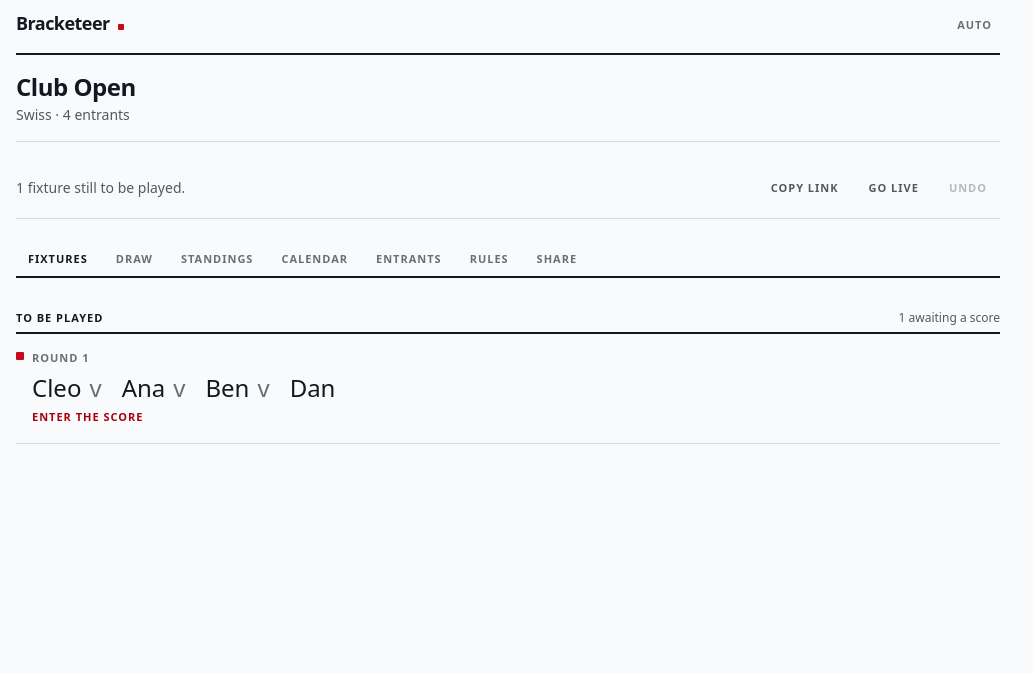
Test: recording a result, in every shape the rules can take › takes times, and records a competitor who did not finish
The image size is (1033, 673).
Click the button "Enter the score" at (57, 387), box [16,372,1000,426]
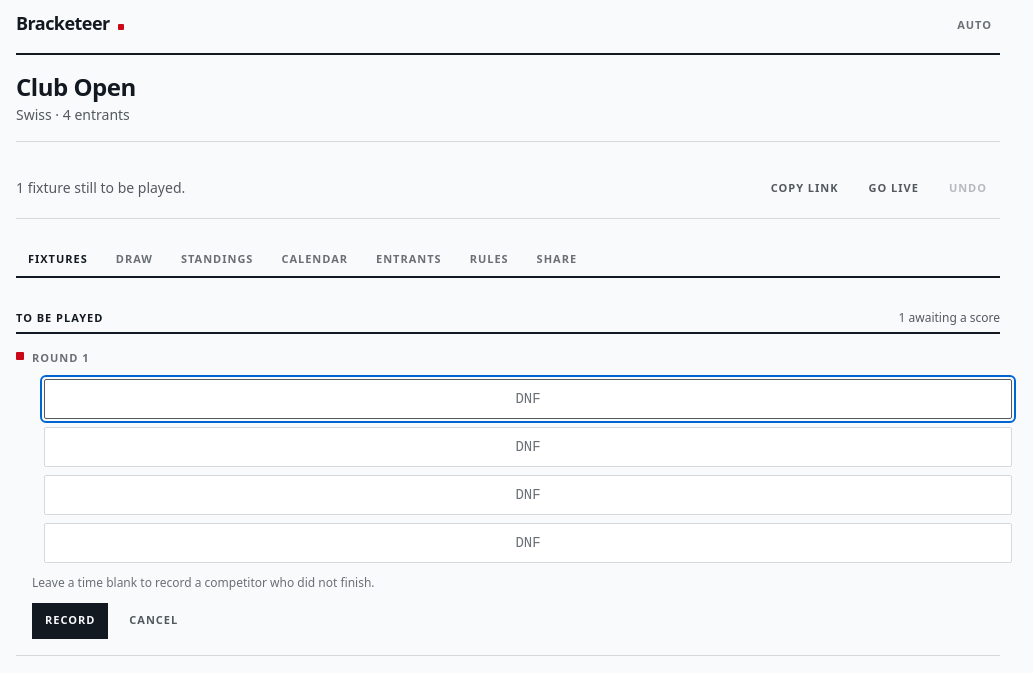
Type "12.4" into the field named "Time for Ana" at (528, 446), box [44,426,1012,466]
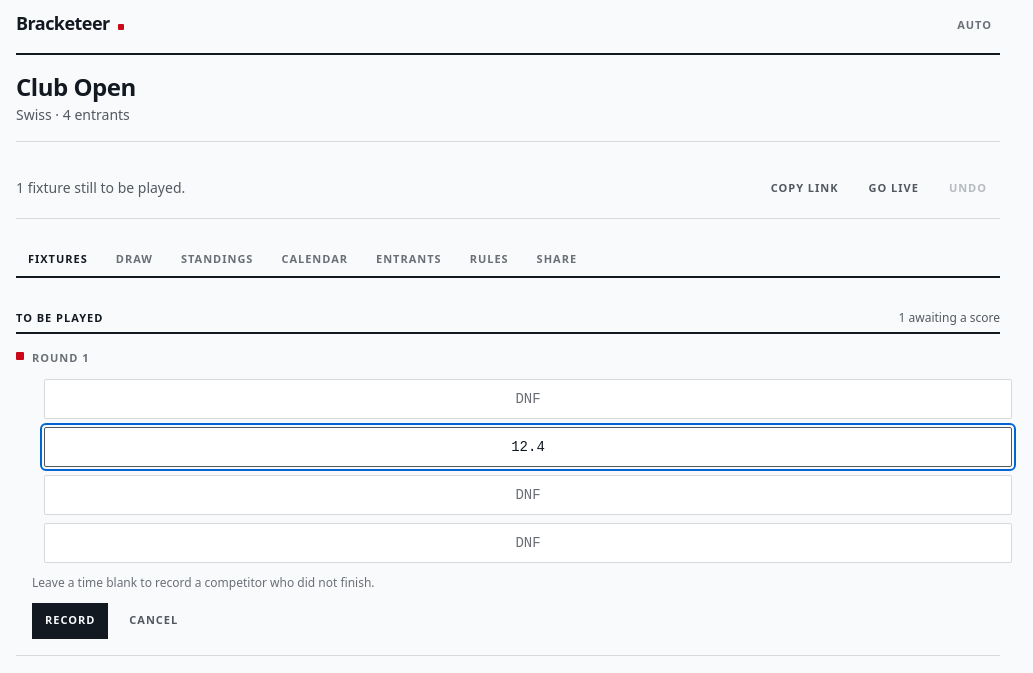
Type "11.9" into the field named "Time for Ben" at (528, 494), box [44,474,1012,514]
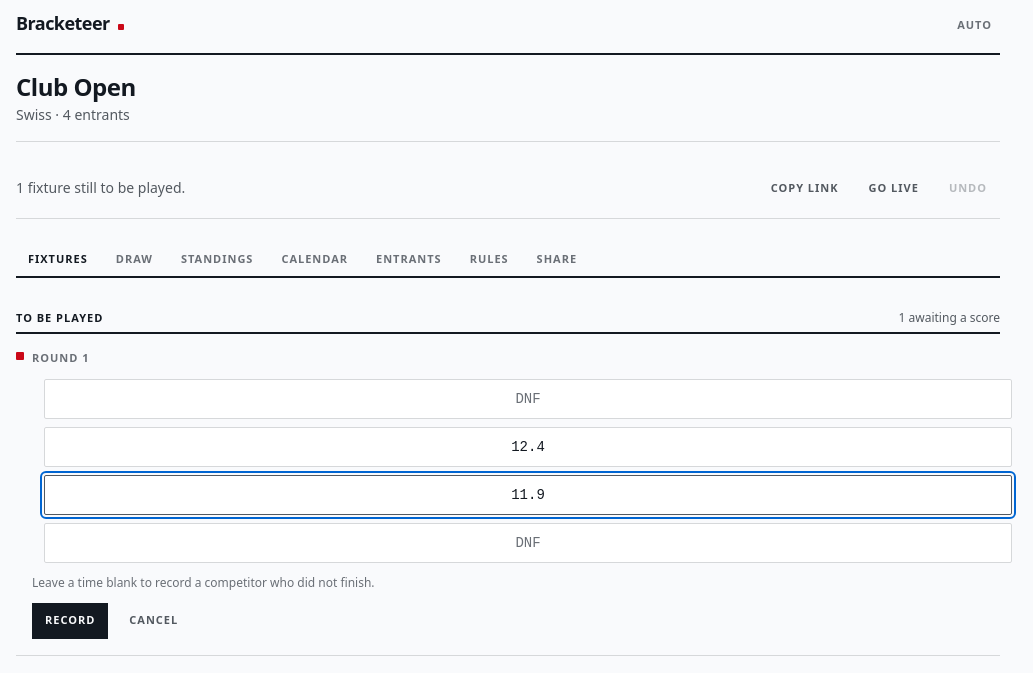
// Cleo and Dan are left blank: they did not finish.
Click the button "Record" at (70, 620), box [32,602,108,638]
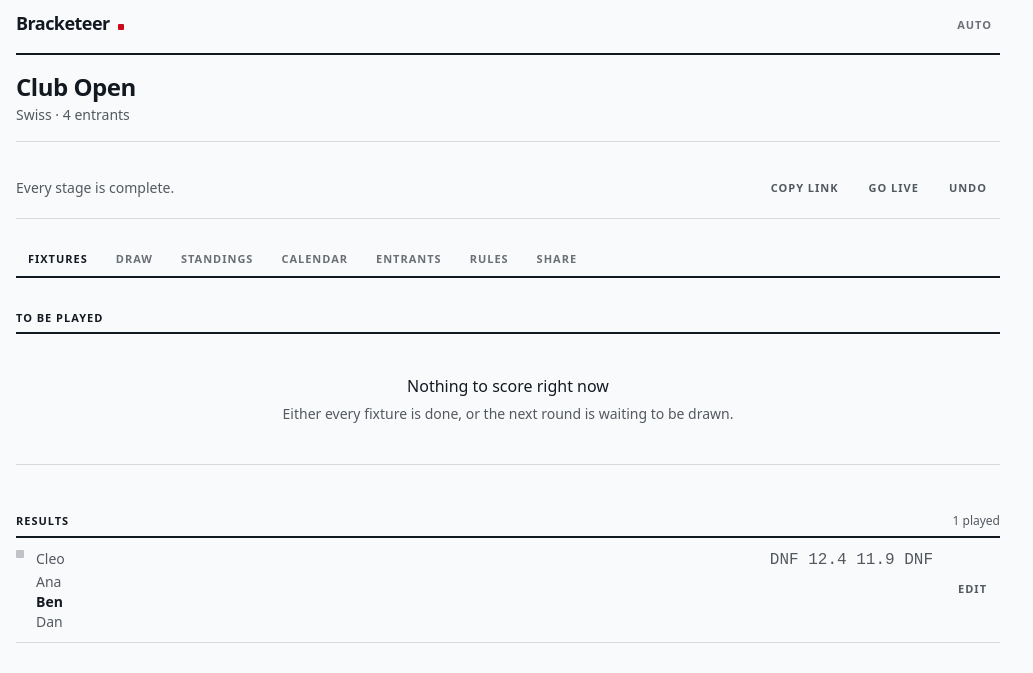
Check: the text "1 played" is shown, box [952,513,1000,529]
